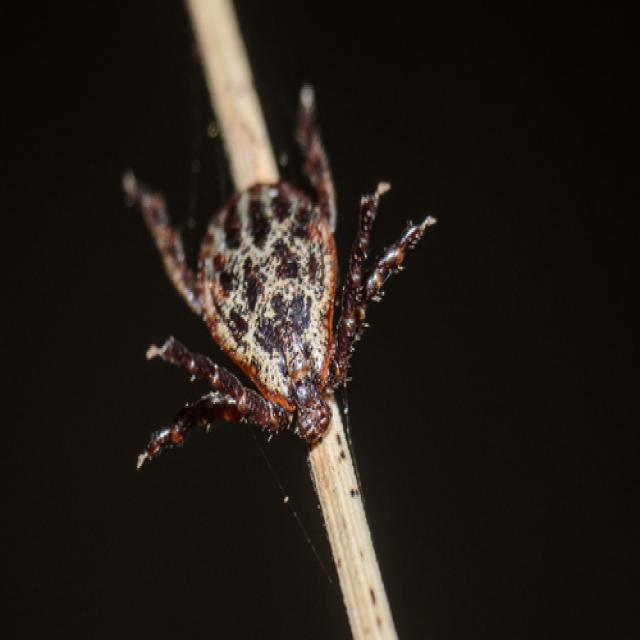Dermacentor Reticulatus-M: (123, 85, 434, 460)
